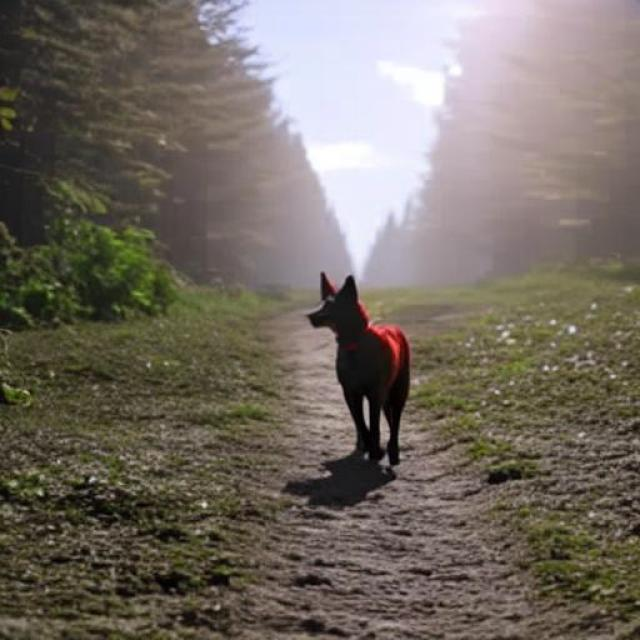Dog: (306, 270, 411, 462)
